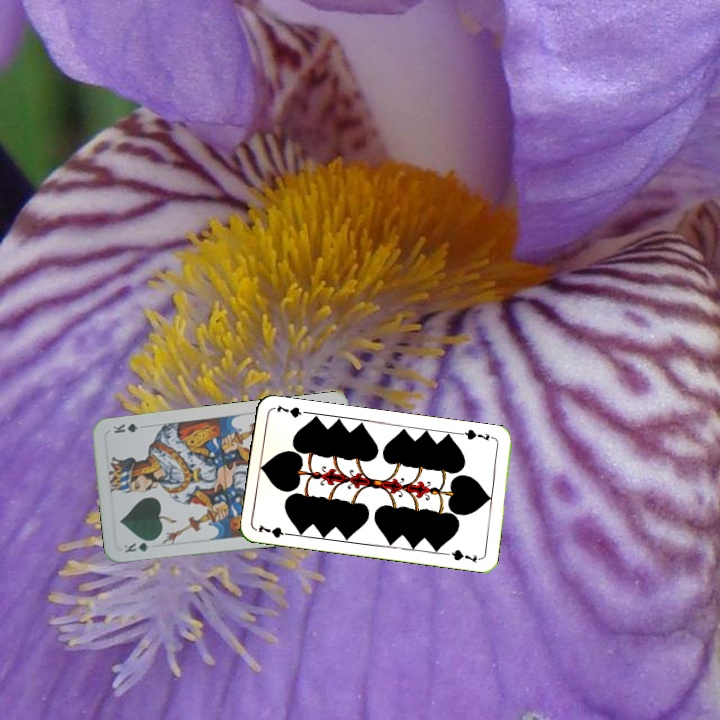G7: (254, 521, 295, 540), (457, 425, 492, 443)
GK: (120, 536, 158, 555)
